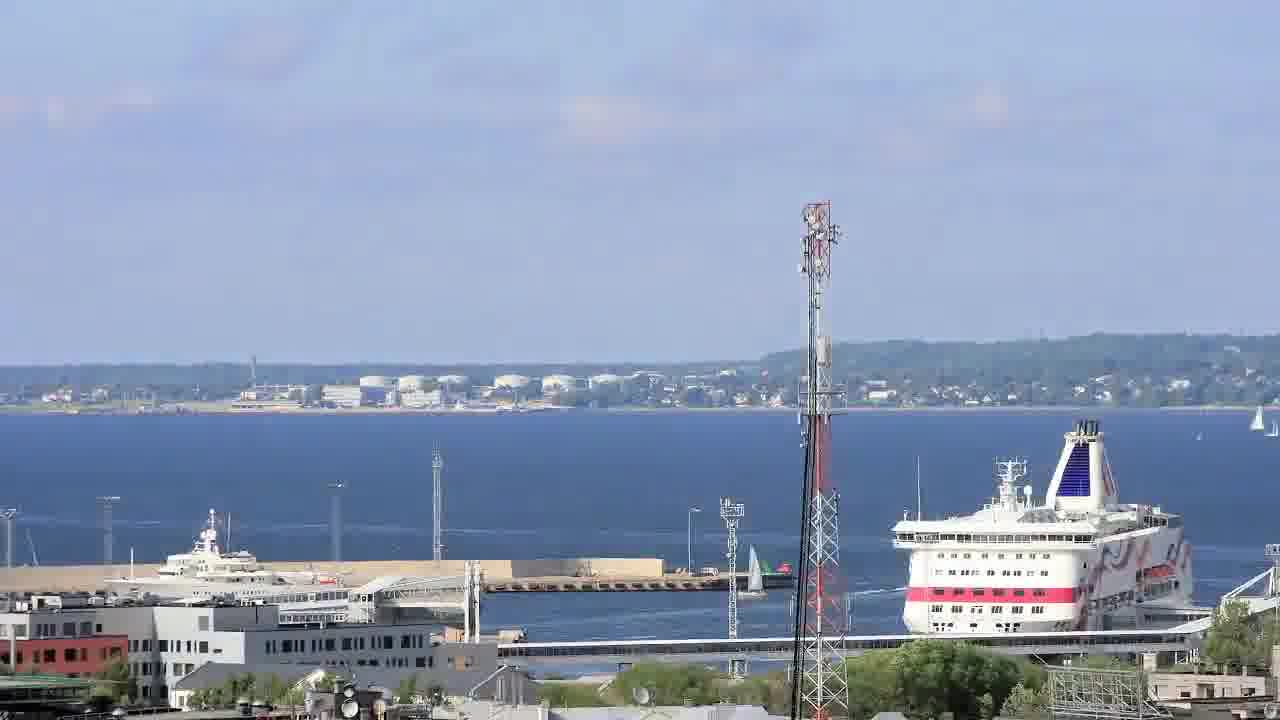type-2: (733, 544, 802, 616), (1215, 390, 1279, 446)
type-3: (868, 415, 1225, 638), (84, 511, 353, 609)
